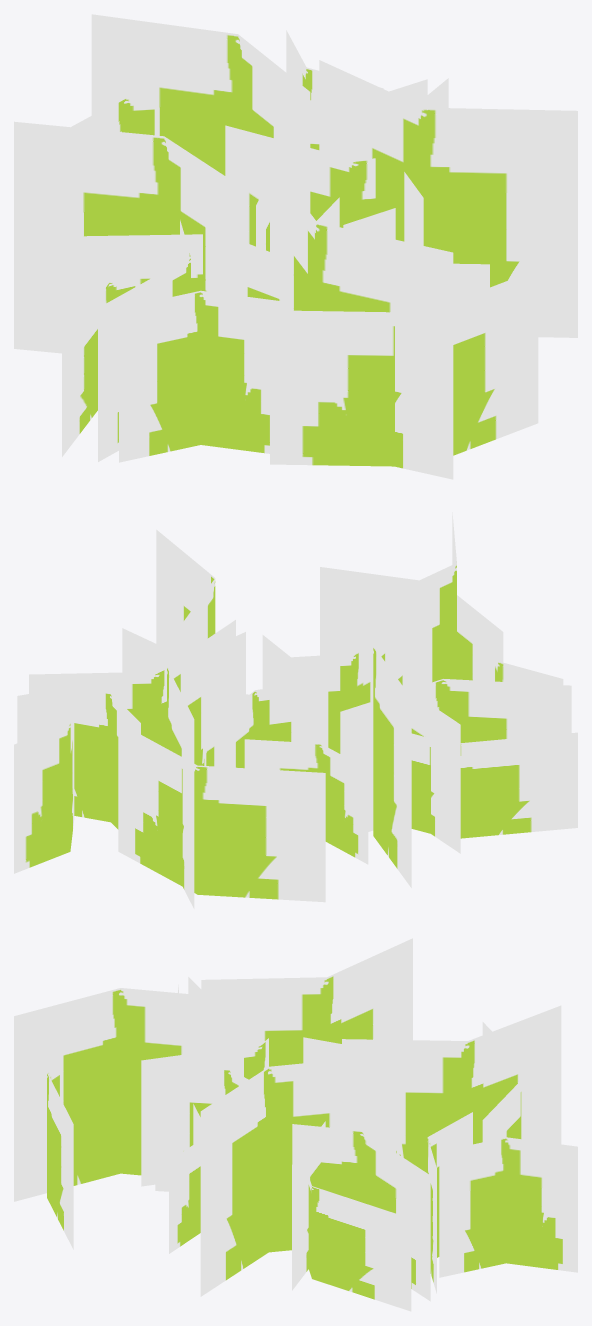
File: HERBE GROUPE.FBX
The picture shows the model from 3 angles, top to bottom: view 1: azimuth 30°, elevation 25°; view 2: azimuth 150°, elevation 25°; view 3: azimuth 270°, elevation 25°; orthographic projection. The views are drawn at different scales.
Parts seen in each view (by area): view 1: HERBE; view 2: HERBE; view 3: HERBE.
Part boxes in pixels (bbox=[...]): HERBE: bbox=[14, 14, 577, 479]; HERBE: bbox=[14, 512, 577, 908]; HERBE: bbox=[14, 938, 577, 1311].
Bounding box in the file's own units: 394 × 157 × 431.
Materials: 1 (1 with a texture image).
